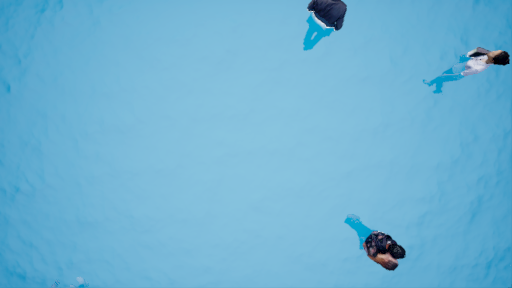person: (424, 41, 508, 100), (347, 209, 414, 276), (295, 1, 350, 55)
